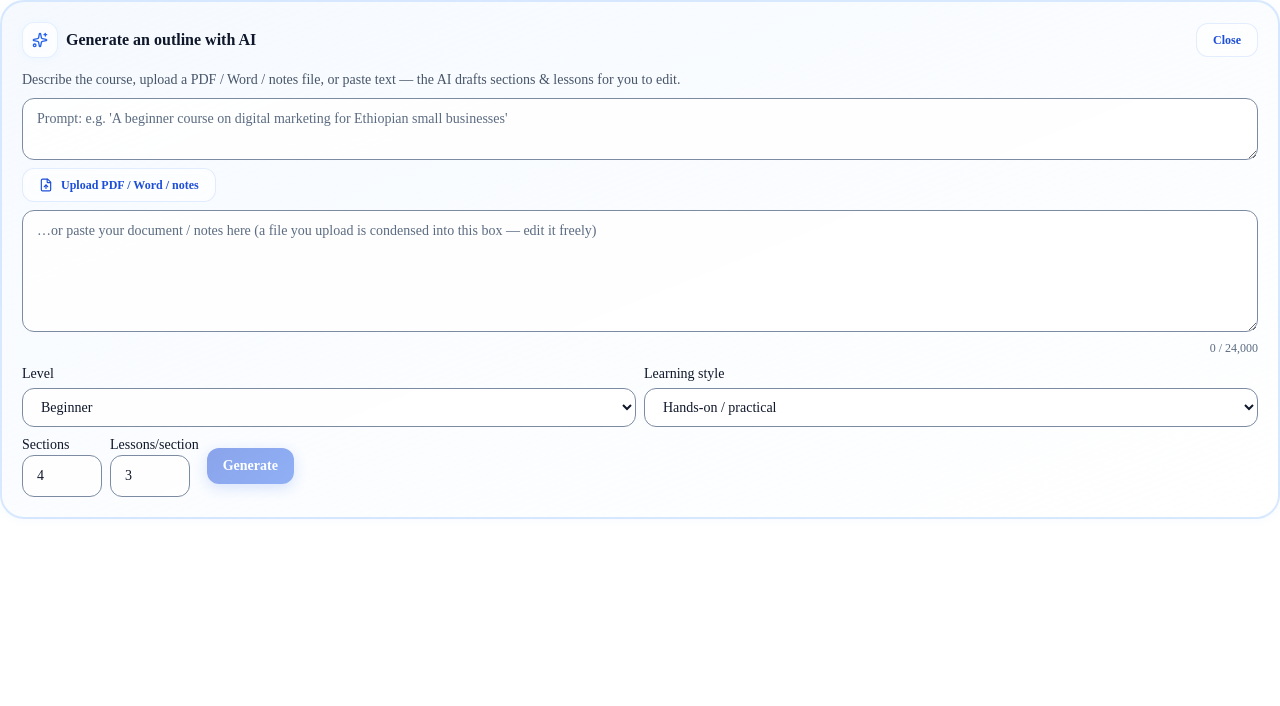
Test case: <StructureGenerator /> generate and apply › shows no banner over a model outline, and still shows a note that comes with it
Replace the text in the text box with placeholder "paste your document" with "Chapter 1 Soil basics" at (640, 271), box [22,210,1258,332]
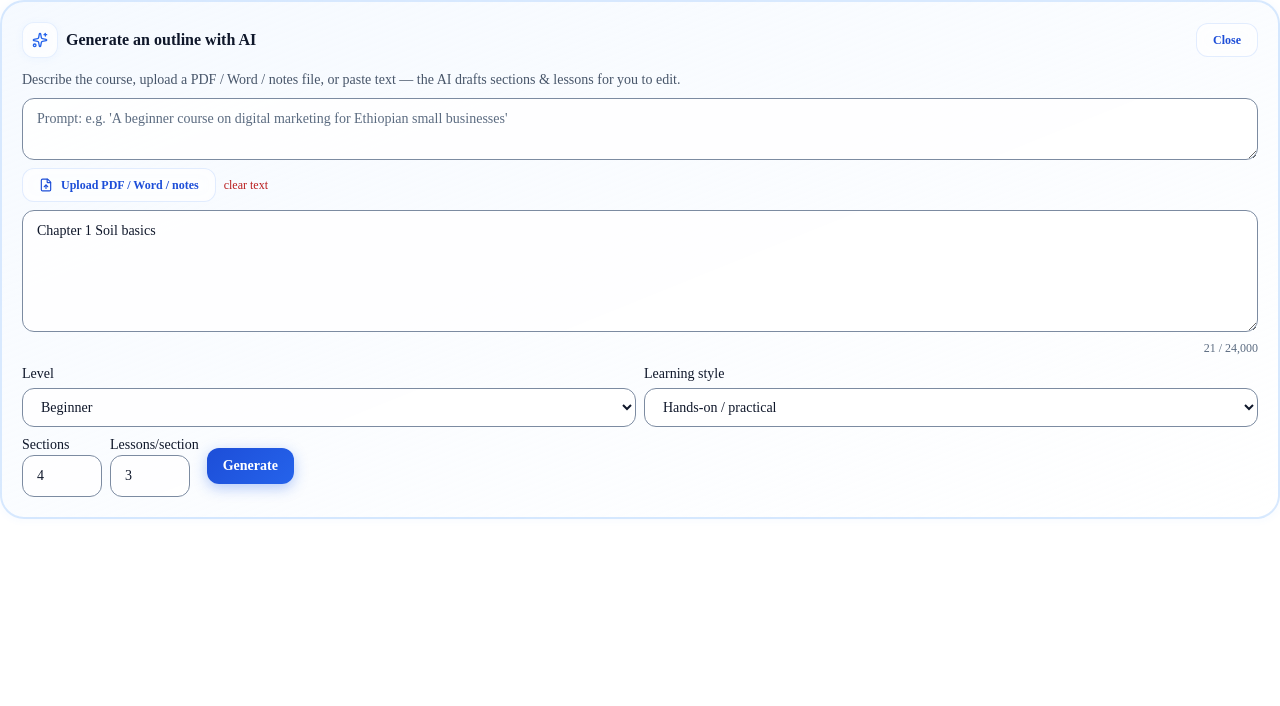
Click the button "Generate" at (250, 466), box [207,448,294,484]
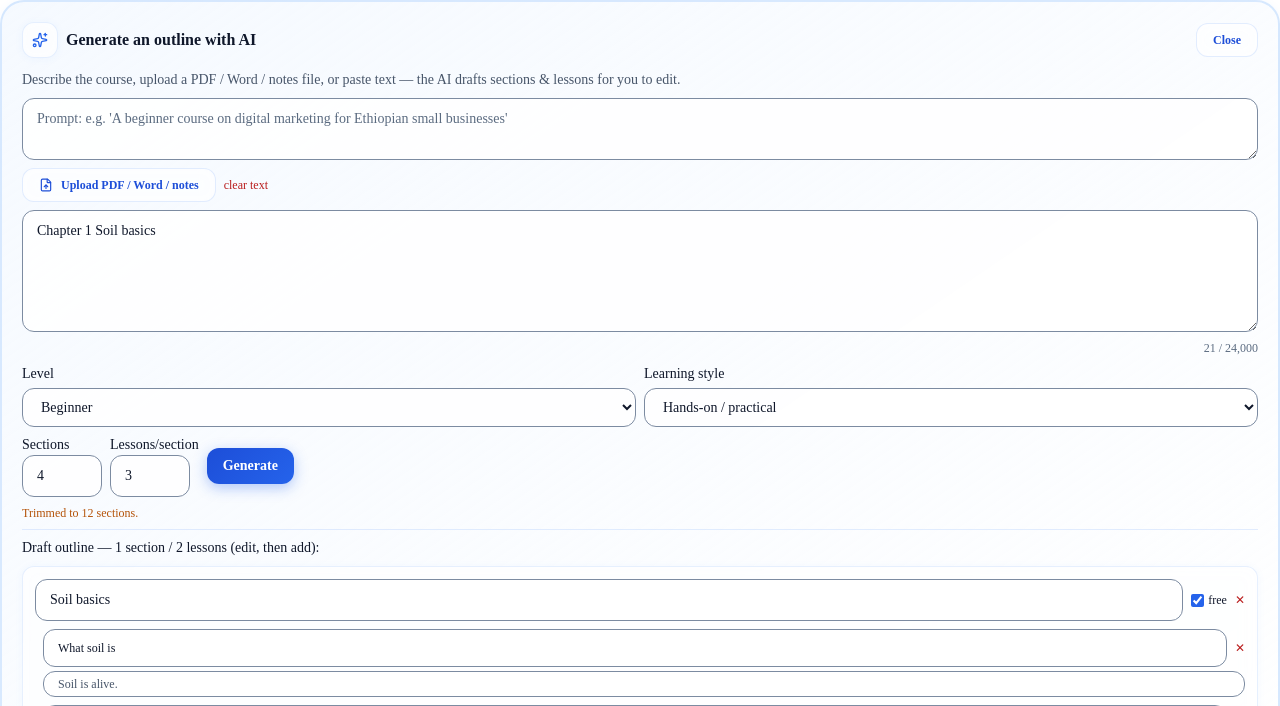
Expected: the text "Trimmed to 12 sections." is shown, [22,506,138,520]
